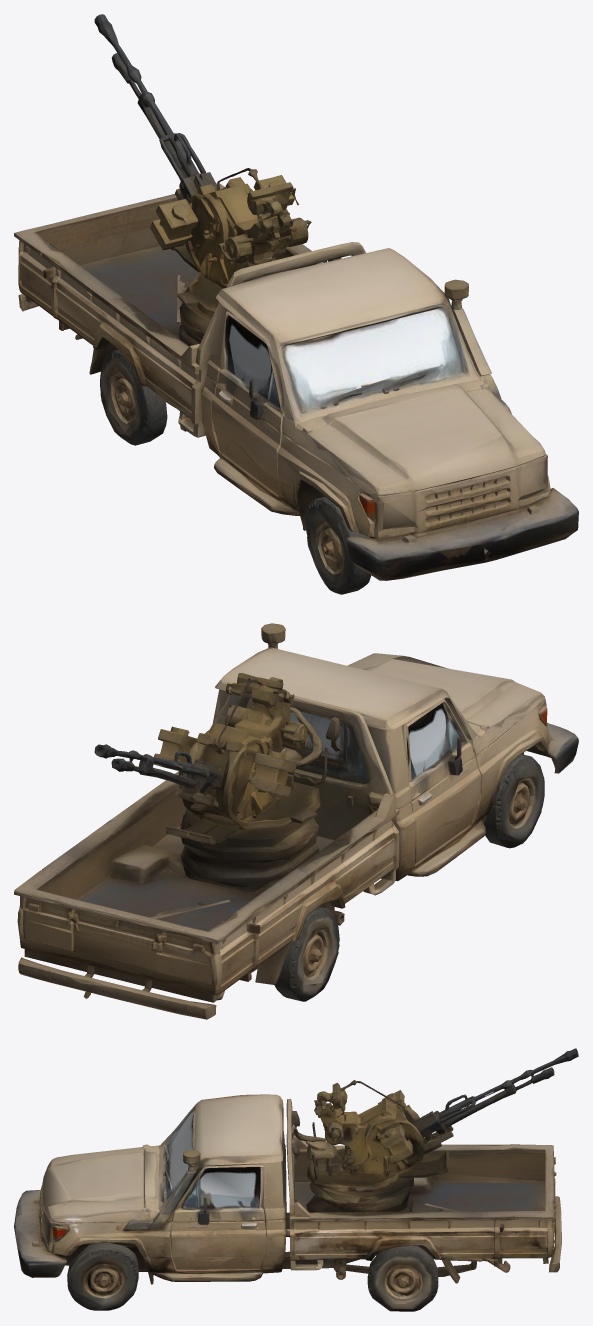
File: technical_zu23.glb
3 renders of one model, top to bottom at view 1: azimuth 30°, elevation 25°; view 2: azimuth 150°, elevation 25°; view 3: azimuth 270°, elevation 25°, orthographic. The views are drawn at different scales.
Parts seen in each view (by area): view 1: technical_zu23; view 2: technical_zu23; view 3: technical_zu23.
Boxes of the visible parts, x1=… form: technical_zu23: x1=14, y1=14, x2=578, y2=594; technical_zu23: x1=14, y1=623, x2=578, y2=1019; technical_zu23: x1=14, y1=1048, x2=578, y2=1311.
Bounding box in the file's own units: 1.6 × 2.19 × 4.9.
1 material, 1 textured.
